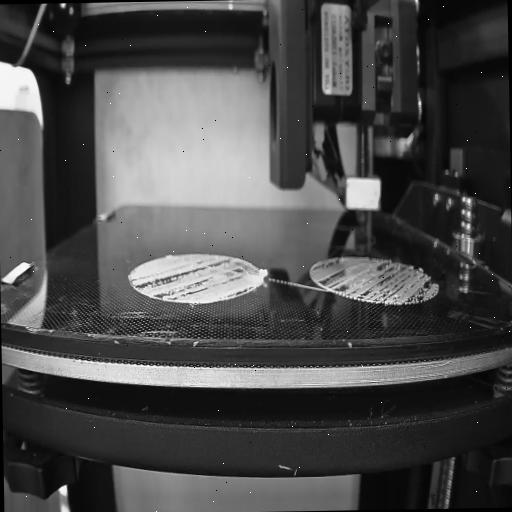under_extrusion: (128, 258, 256, 306), (315, 260, 433, 308)
